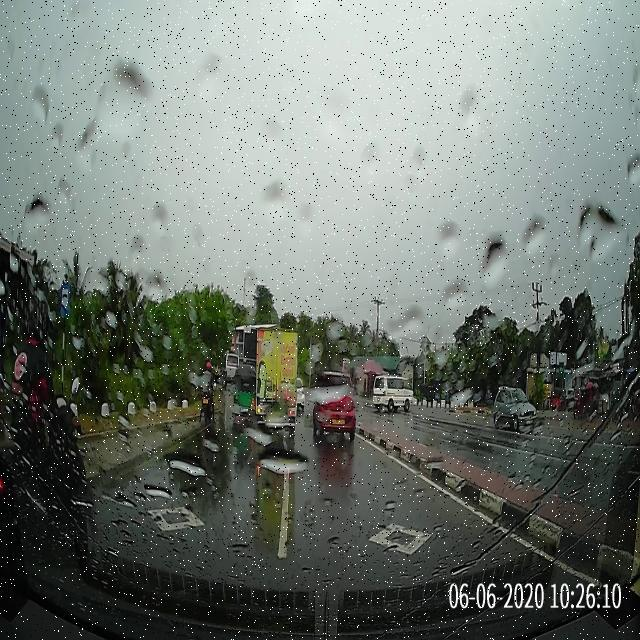diamond: (272, 479, 540, 583)
